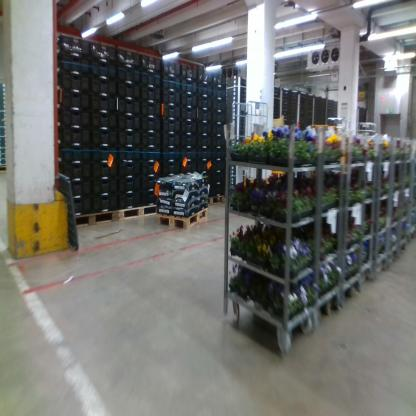pallet: (157, 206, 211, 229), (68, 209, 119, 232), (119, 203, 162, 224), (191, 196, 225, 210)
